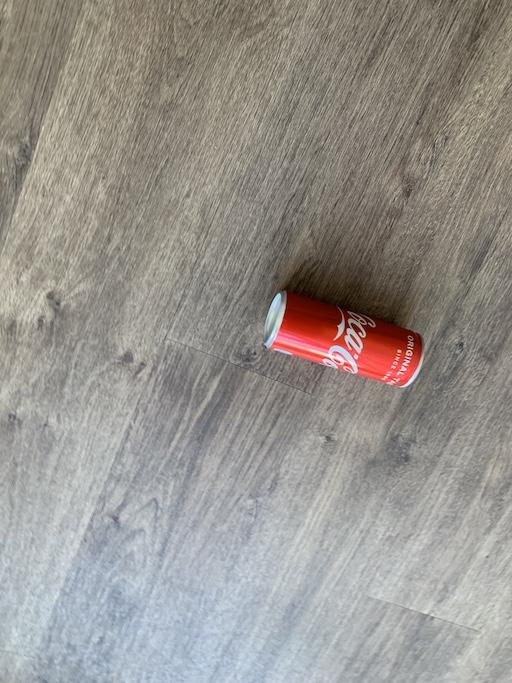Aluminum can: (250, 281, 460, 410)
